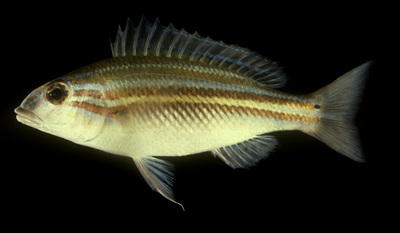fish: (14, 20, 372, 212)
